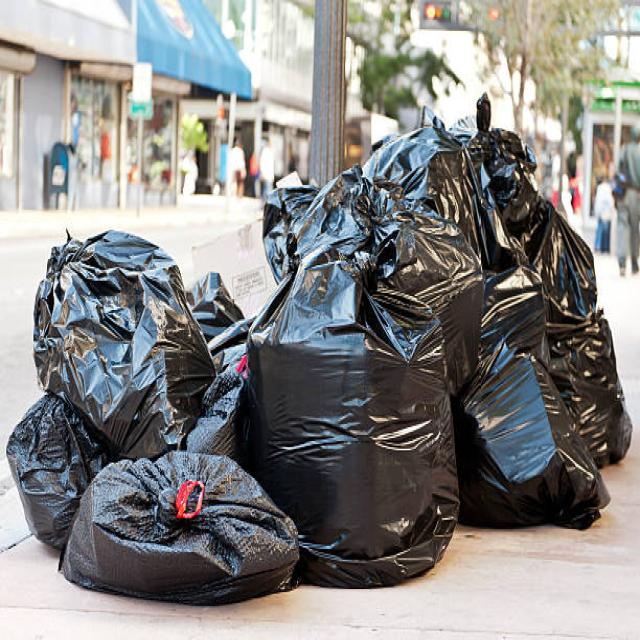trash: (18, 91, 595, 609)
